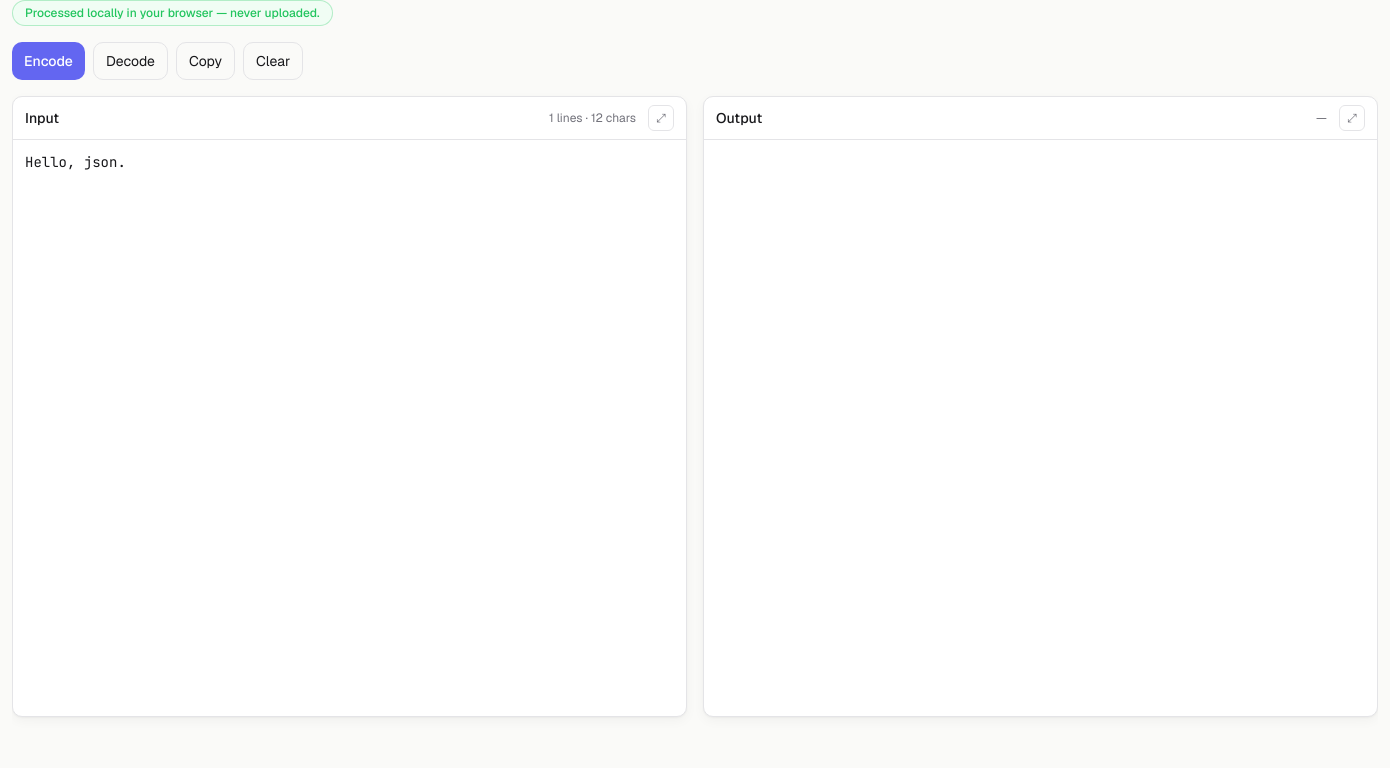
Test: Base64Tool › encodes sample text
Click the button "Encode". click: (48, 61)
box: 12,42 -> 85,80
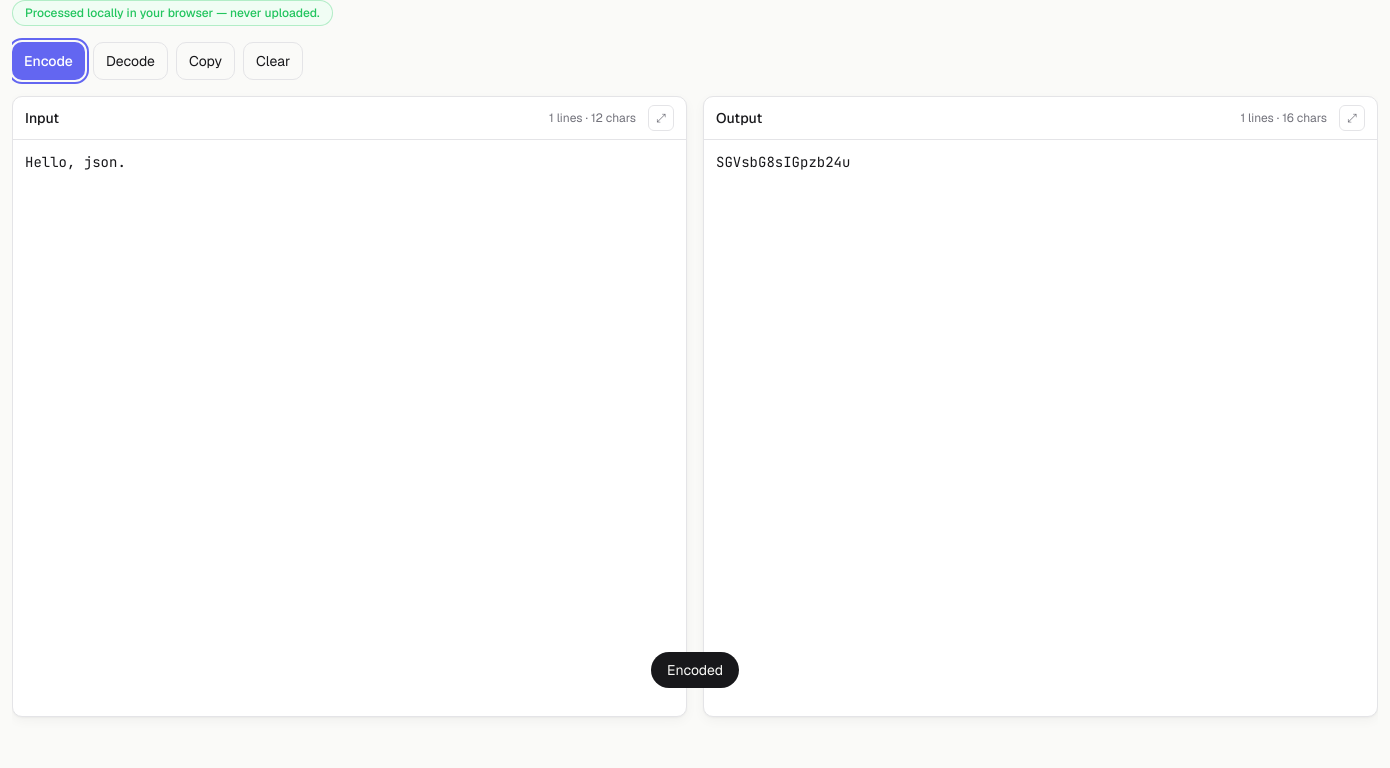
Result: the text box named "output" holds "SGVsbG8sIGpzb24u" at 704,140 -> 1377,716
